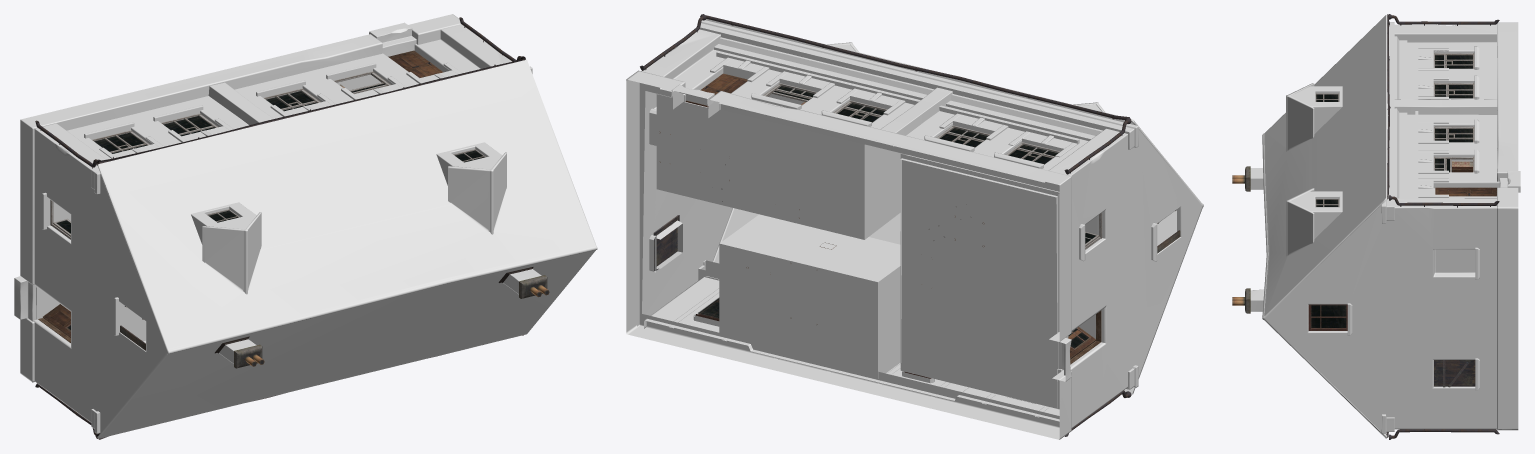
Rendered from hd_bld_EU_060_VHouse_01.fbx.
The picture shows the model from 3 angles, left to right: view 1: azimuth 30°, elevation 25°; view 2: azimuth 150°, elevation 25°; view 3: azimuth 270°, elevation 25°; orthographic projection. The views are drawn at different scales.
Visible parts, largest first — view 1: set_0_group_4, set_0_group_5, set_0_group_1, set_0_group_3, set_0_group_0, set_0_group_2; view 2: set_0_group_2, set_0_group_5, set_0_group_1, set_0_group_3, set_0_group_0, set_0_group_4; view 3: set_0_group_5, set_0_group_4, set_0_group_1, set_0_group_3, set_0_group_0.
Boxes of the visible parts, bbox=[...] form: set_0_group_4: bbox=[97, 62, 595, 438]; set_0_group_5: bbox=[33, 24, 541, 432]; set_0_group_1: bbox=[14, 14, 461, 382]; set_0_group_3: bbox=[91, 59, 597, 438]; set_0_group_0: bbox=[35, 17, 549, 439]; set_0_group_2: bbox=[36, 74, 381, 343]; set_0_group_2: bbox=[656, 94, 1176, 409]; set_0_group_5: bbox=[637, 29, 1201, 427]; set_0_group_1: bbox=[626, 70, 1157, 439]; set_0_group_3: bbox=[669, 15, 1203, 417]; set_0_group_0: bbox=[640, 14, 1180, 436]; set_0_group_4: bbox=[706, 19, 1202, 393]; set_0_group_5: bbox=[1250, 24, 1499, 431]; set_0_group_4: bbox=[1264, 17, 1387, 438]; set_0_group_1: bbox=[1347, 22, 1520, 430]; set_0_group_3: bbox=[1262, 15, 1448, 433]; set_0_group_0: bbox=[1232, 14, 1499, 439].
Bounding box in the file's own units: 1694 × 1026 × 1097.
